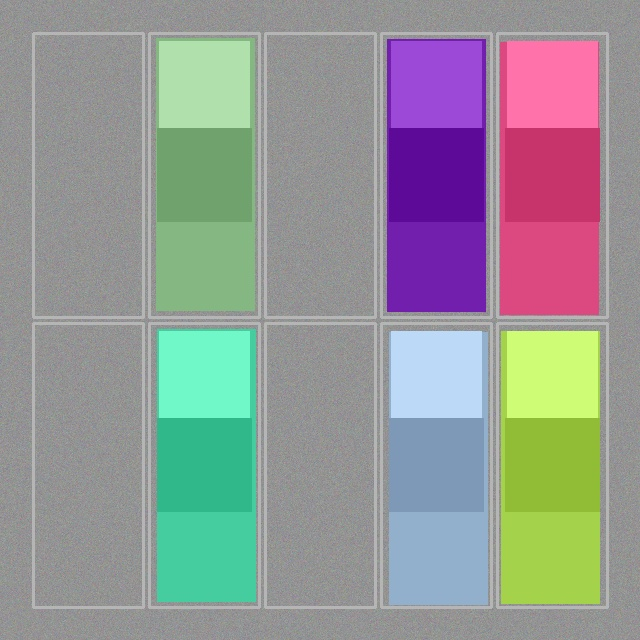space-empty: (35, 35, 141, 315), (267, 35, 373, 315), (35, 325, 141, 605), (267, 325, 373, 605)
space-occupied: (151, 35, 257, 315), (383, 35, 489, 315), (499, 35, 605, 315), (151, 325, 257, 605), (383, 325, 489, 605), (499, 325, 605, 605)
